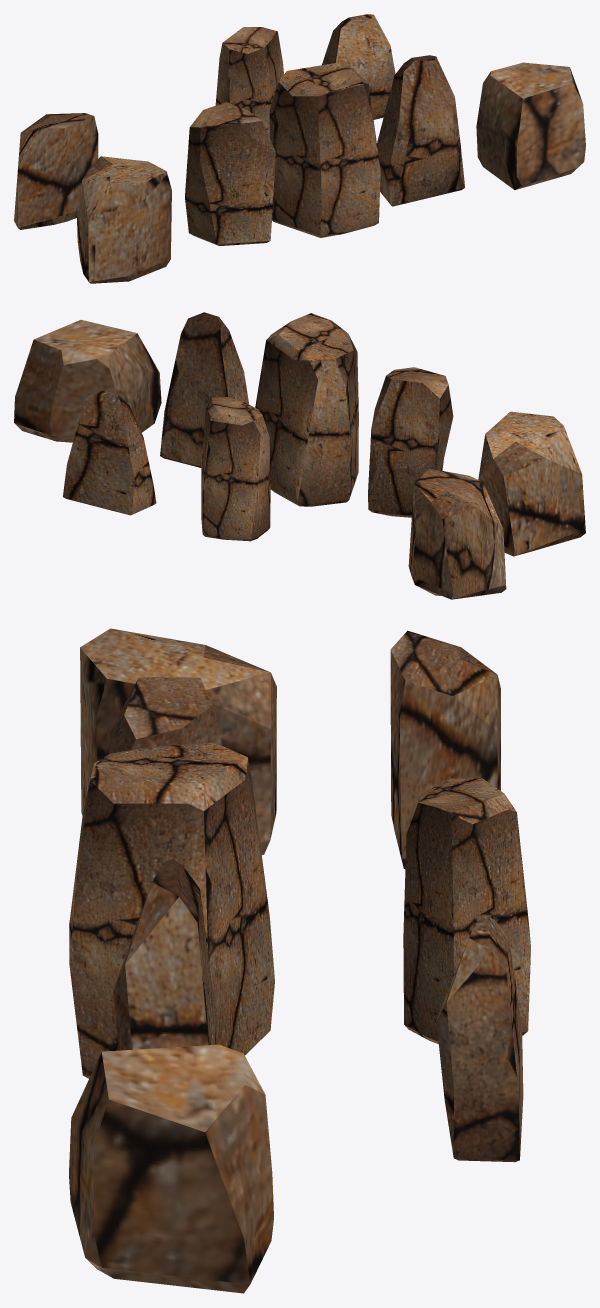
The model's file is Granite Piece.fbx.
3 views of the same model, one above another, from view 1: azimuth 30°, elevation 25°; view 2: azimuth 150°, elevation 25°; view 3: azimuth 270°, elevation 25° (orthographic). The views are drawn at different scales.
Parts seen in each view (by area): view 1: Granite Piece.006, Granite Piece.008, Granite Piece.005, Granite Piece.001, Granite Piece.003, Granite Piece.002, Granite Piece.007, Granite Piece.004; view 2: Granite Piece.006, Granite Piece.008, Granite Piece.001, Granite Piece.002, Granite Piece.005, Granite Piece.007, Granite Piece.004, Granite Piece.003; view 3: Granite Piece.008, Granite Piece.006, Granite Piece.007, Granite Piece.001, Granite Piece.004, Granite Piece.002, Granite Piece.003, Granite Piece.005.
Part boxes in pixels (left/top/right/bottom): Granite Piece.006: left=269, top=62, right=380, bottom=237; Granite Piece.008: left=476, top=62, right=585, bottom=189; Granite Piece.005: left=185, top=102, right=275, bottom=245; Granite Piece.001: left=77, top=156, right=171, bottom=283; Granite Piece.003: left=377, top=55, right=464, bottom=206; Granite Piece.002: left=14, top=113, right=98, bottom=229; Granite Piece.007: left=215, top=27, right=283, bottom=137; Granite Piece.004: left=322, top=14, right=395, bottom=119; Granite Piece.006: left=255, top=313, right=358, bottom=506; Granite Piece.008: left=14, top=320, right=161, bottom=442; Granite Piece.001: left=478, top=411, right=585, bottom=556; Granite Piece.002: left=408, top=468, right=506, bottom=599; Granite Piece.005: left=368, top=367, right=453, bottom=517; Granite Piece.007: left=201, top=397, right=270, bottom=541; Granite Piece.004: left=63, top=390, right=156, bottom=515; Granite Piece.003: left=160, top=312, right=249, bottom=467; Granite Piece.008: left=69, top=1044, right=273, bottom=1293; Granite Piece.006: left=69, top=742, right=274, bottom=1078; Granite Piece.007: left=403, top=778, right=530, bottom=1043; Granite Piece.001: left=80, top=628, right=276, bottom=854; Granite Piece.004: left=436, top=916, right=523, bottom=1162; Granite Piece.002: left=390, top=630, right=500, bottom=868; Granite Piece.003: left=113, top=859, right=216, bottom=1050; Granite Piece.005: left=109, top=677, right=222, bottom=753.
Bounding box in the file's own units: 1915 × 532 × 748.
1 material, 1 textured.
